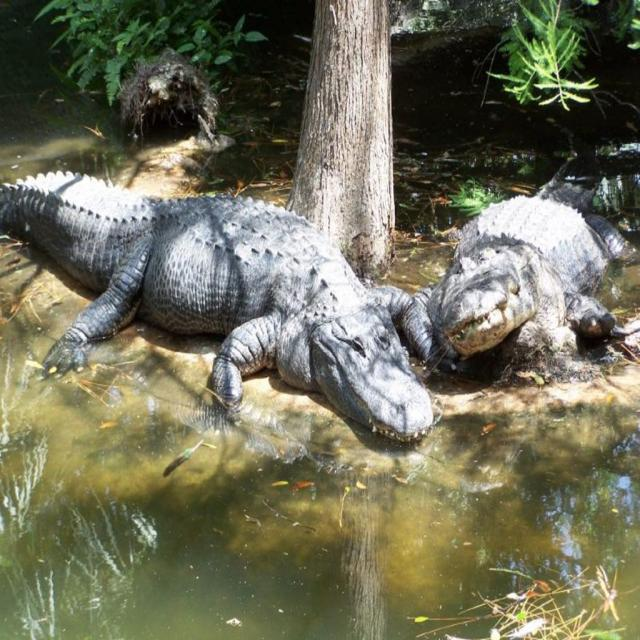crocodile: (0, 173, 441, 444)
